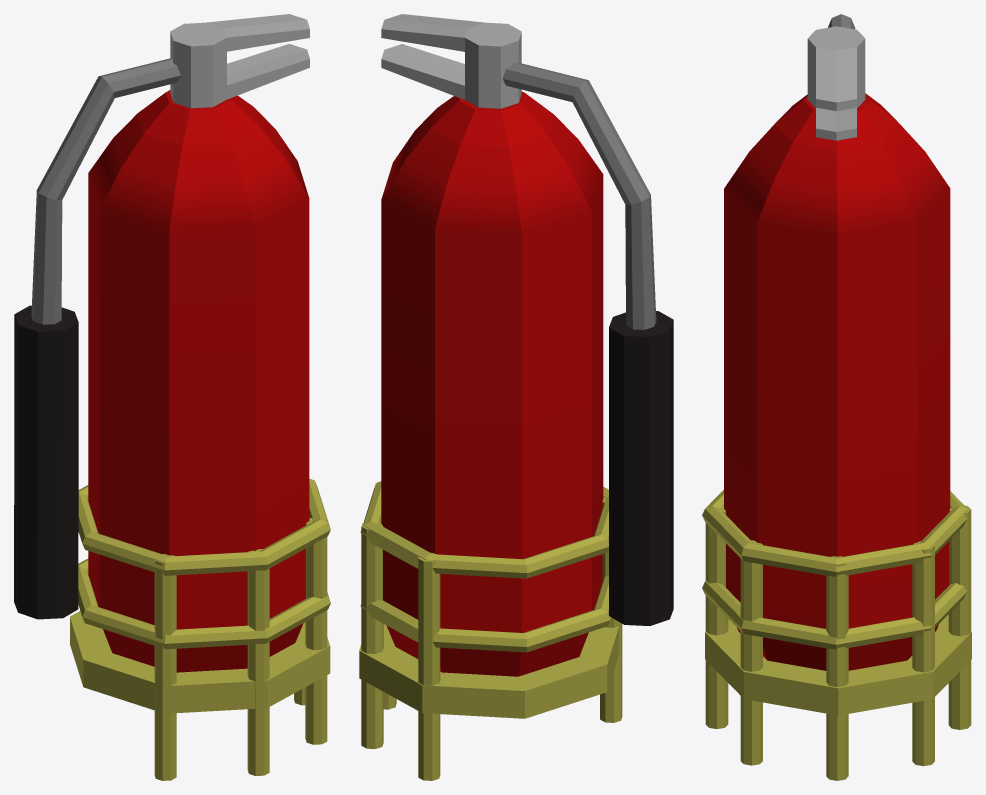
The model's file is extintor.fbx.
3 views of the same model, side by side, from view 1: azimuth 30°, elevation 25°; view 2: azimuth 150°, elevation 25°; view 3: azimuth 270°, elevation 25° (orthographic).
Parts seen in each view (by area): view 1: pCylinder35; view 2: pCylinder35; view 3: pCylinder35.
Boxes of the visible parts, box(x1,y1,x2,y2) form: pCylinder35: box(14, 14, 330, 780); pCylinder35: box(359, 14, 673, 780); pCylinder35: box(702, 14, 971, 780).
Size of the model in its own units: 0.3386 by 0.7542 by 0.2689.
